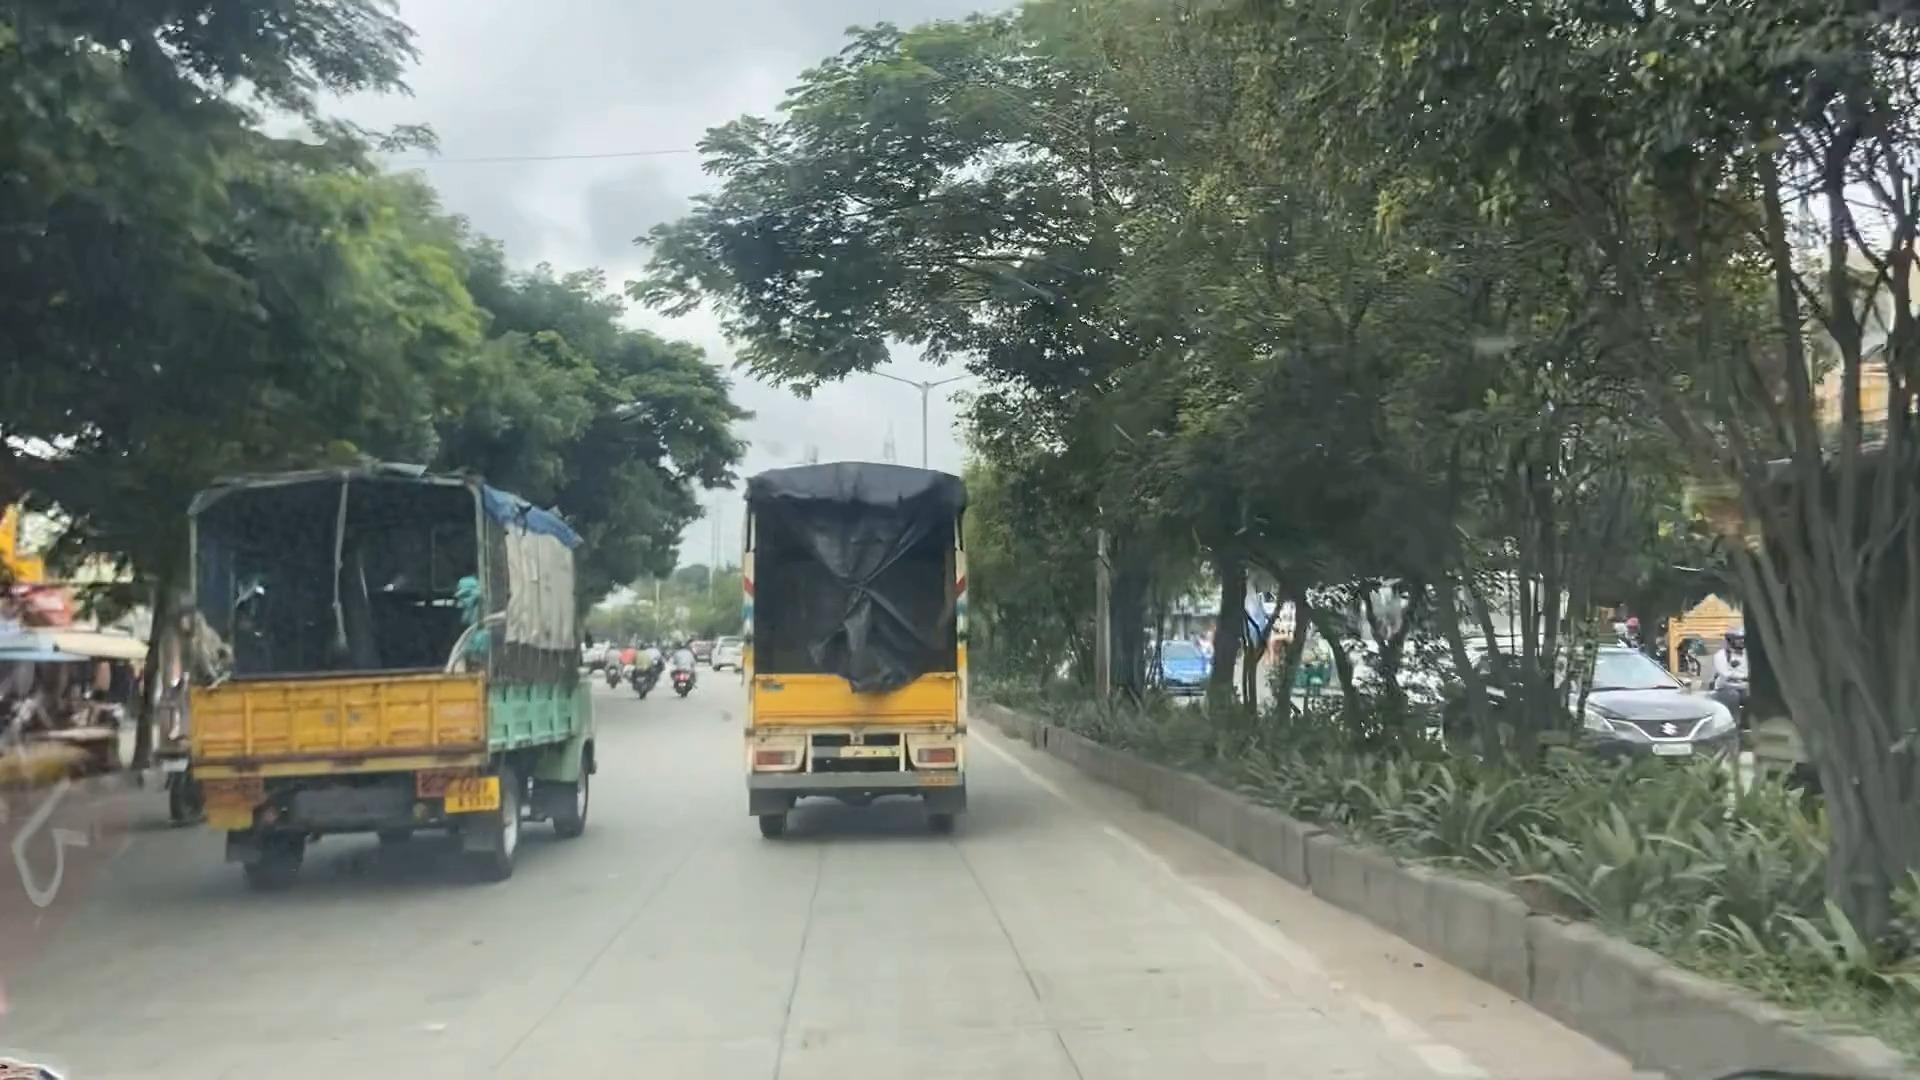HMV: (166, 459, 617, 916), (655, 373, 1000, 897)
